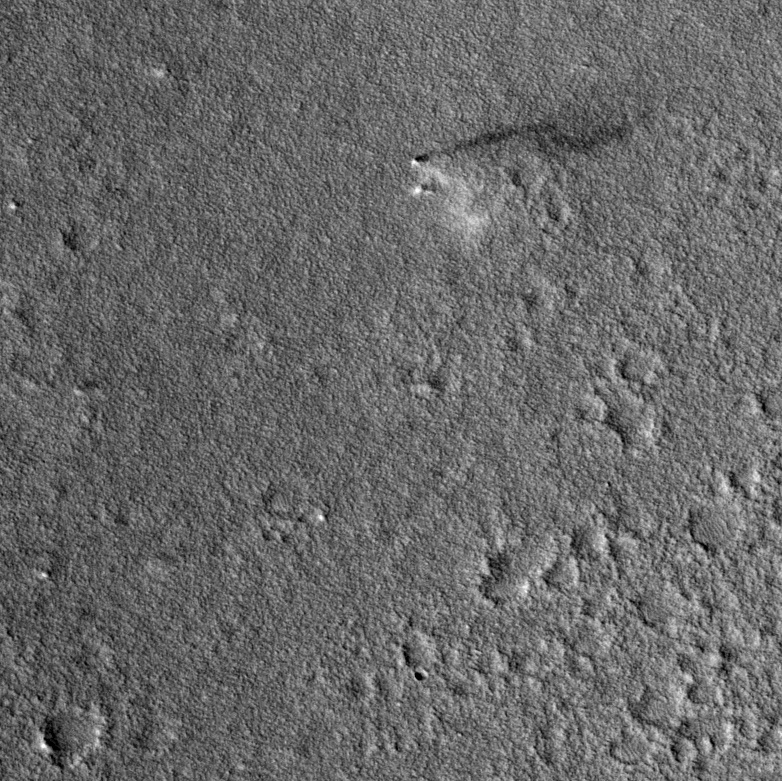dust_devil: (406, 110, 635, 208)
